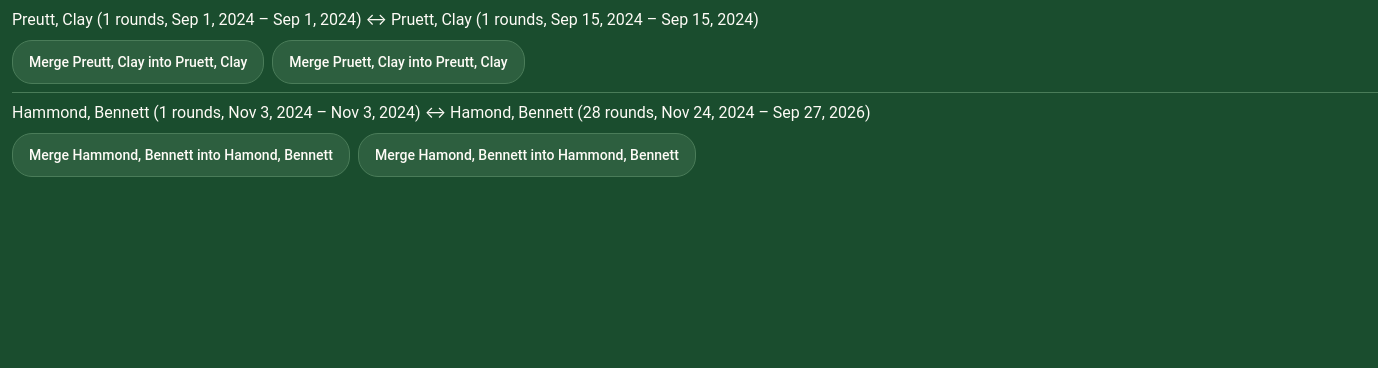
Test: DuplicatesQueue › previews a merge in the other direction too
This screenshot has width=1378, height=368.
Step 1. Click the button "Merge Hammond, Bennett into Hamond, Bennett" → (181,155), box [12,133,350,177]
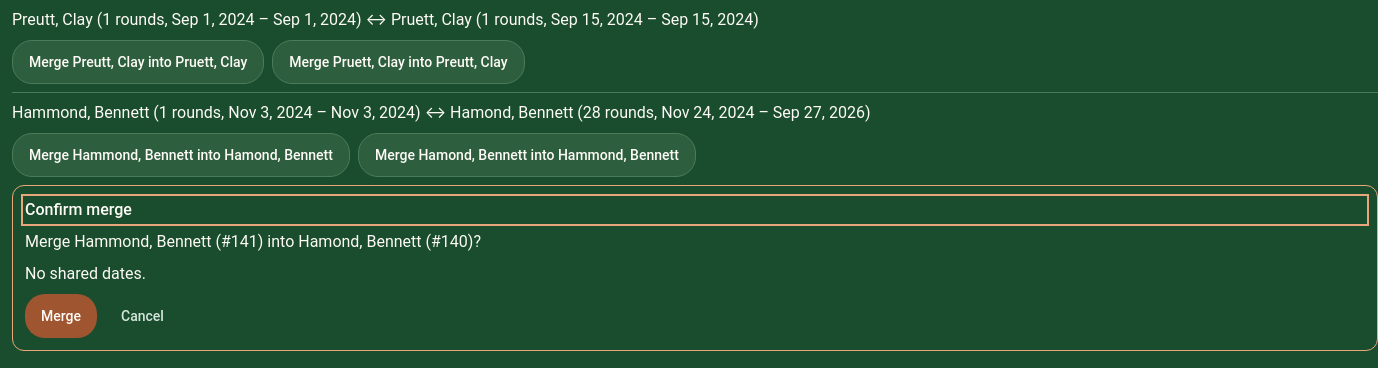
Expected: the element "Confirm merge" is shown, [12,185,1377,351]
